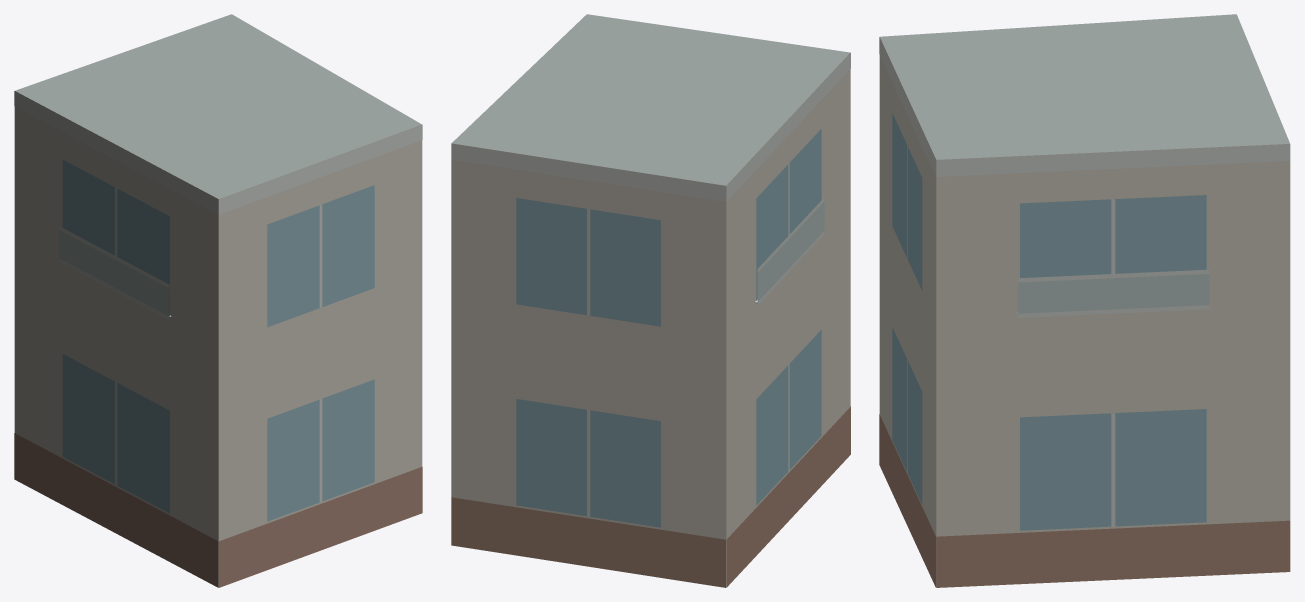
The model's file is survey-upis-32624710.glb.
3 renders of one model, left to right at view 1: azimuth 30°, elevation 25°; view 2: azimuth 150°, elevation 25°; view 3: azimuth 270°, elevation 25°, orthographic. The views are drawn at different scales.
Parts seen in each view (by area): view 1: survey-upis-32624710.tmp; view 2: survey-upis-32624710.tmp; view 3: survey-upis-32624710.tmp.
Part boxes in pixels (x1,y1,x2,y2): survey-upis-32624710.tmp: (14, 14, 422, 587); survey-upis-32624710.tmp: (451, 14, 850, 587); survey-upis-32624710.tmp: (879, 14, 1290, 587).
Bounding box in the file's own units: 4.47 × 6.1 × 5.32.
